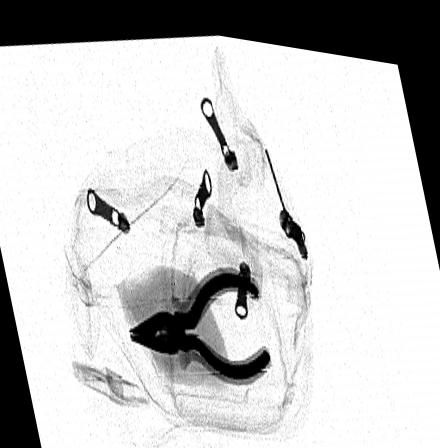Pliers: (122, 250, 274, 384)
